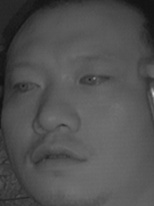eye: (77, 69, 113, 92), (13, 76, 43, 96)
mouth: (29, 137, 90, 174)
